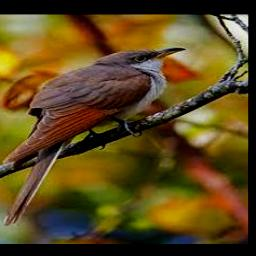Cuckoo: (2, 47, 186, 225)
